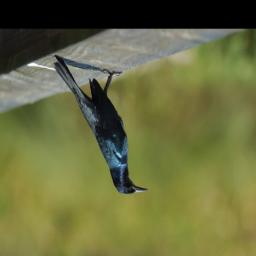Crow: (51, 55, 148, 196)
